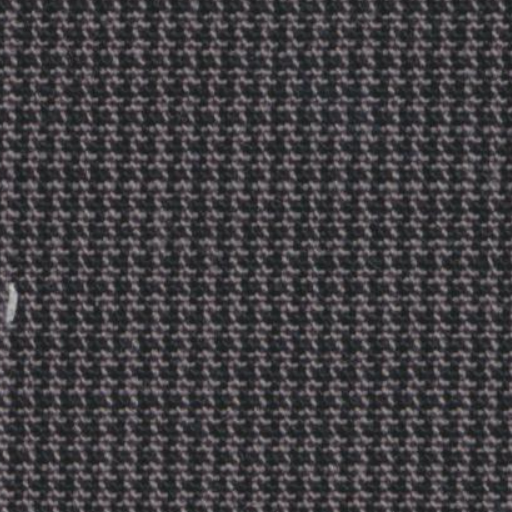DuanSha: (4, 260, 40, 341)
